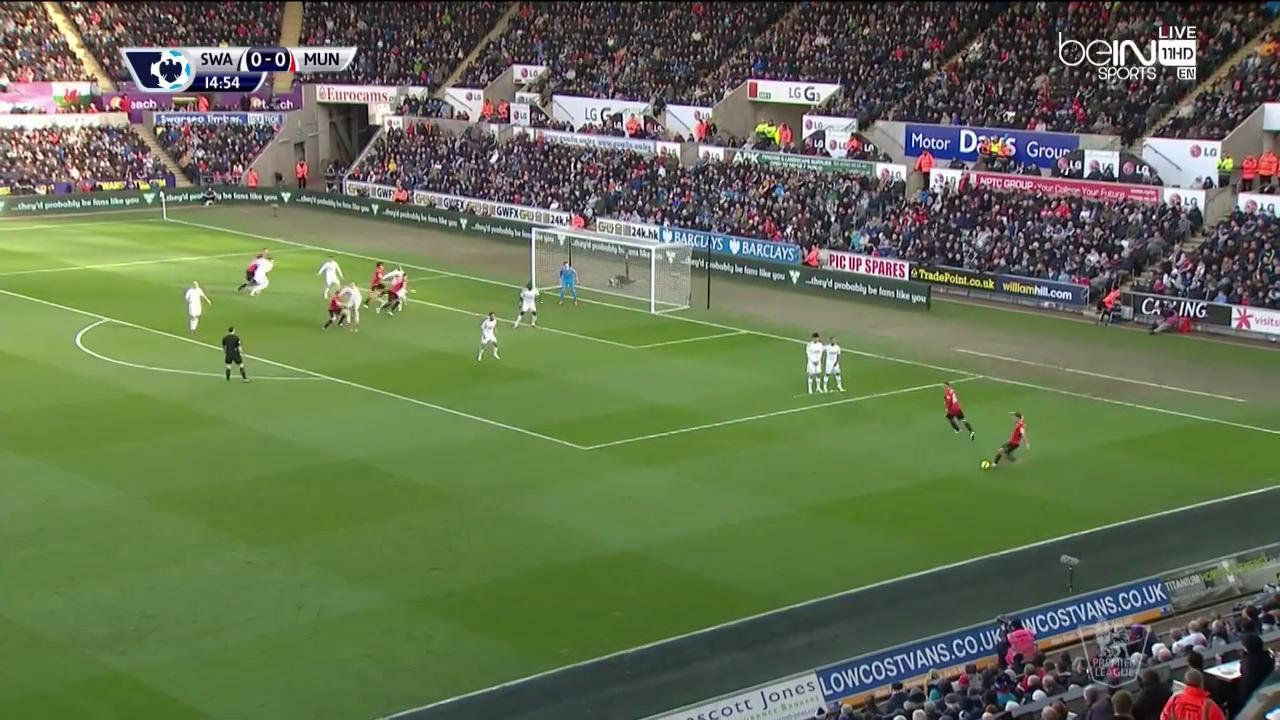football: (980, 459, 991, 471)
